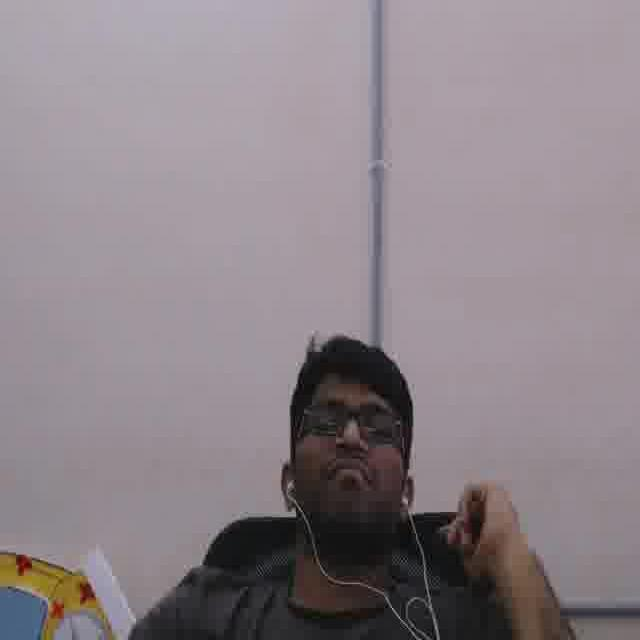Boredom: (298, 371, 399, 525)
